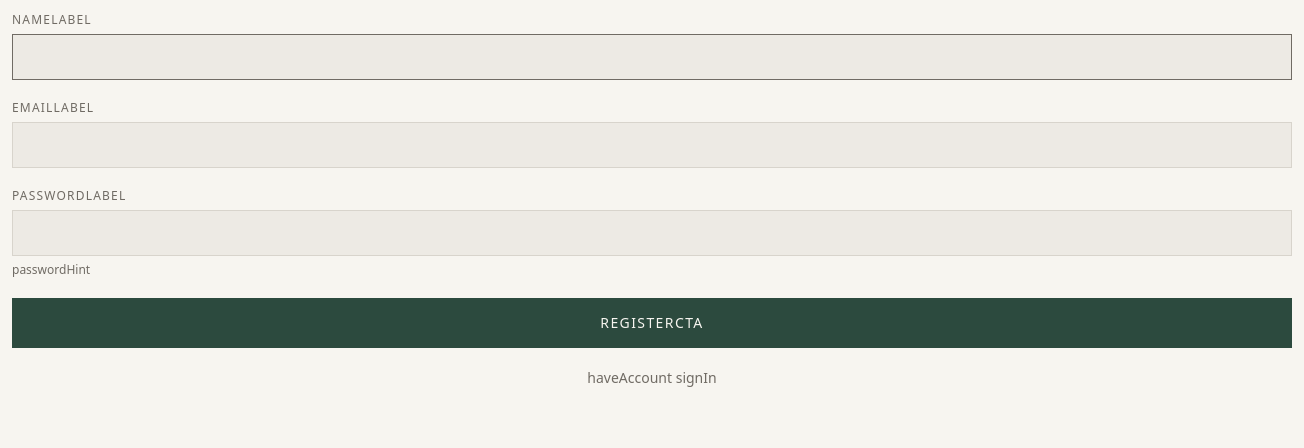
Scenario: AuthForm — register mode › shows validation errors when submitting empty form
The image size is (1304, 448).
Click the button "registerCta" at coordinates (652, 323), box [12,298,1292,348]
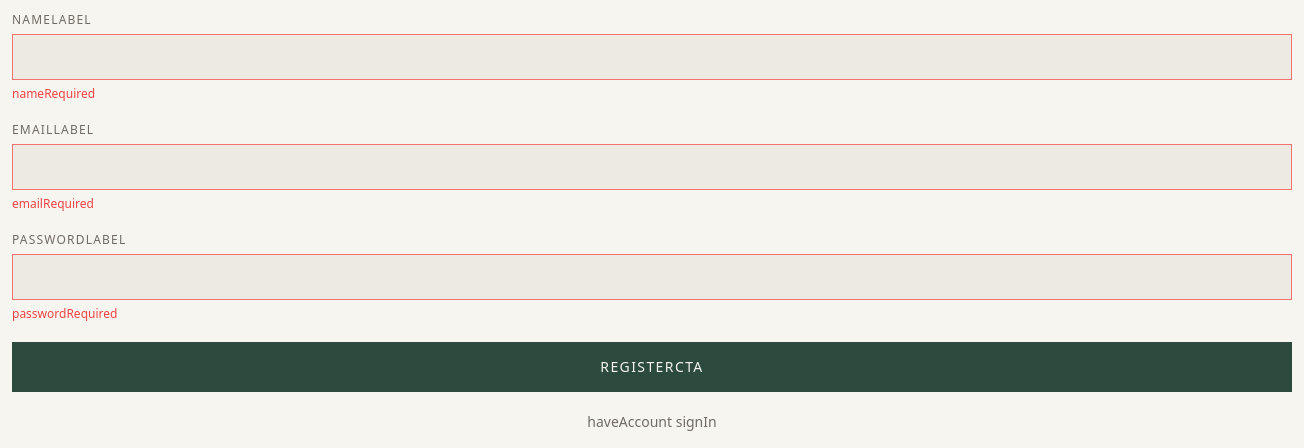
Now the text "nameRequired" is shown, box [12,85,95,102]
Now the text "emailRequired" is shown, box [12,195,94,212]
Now the text "passwordRequired" is shown, box [12,305,117,322]
